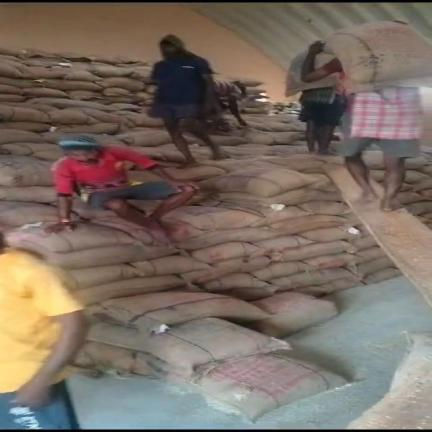Zone-Counting: (302, 22, 431, 211)
